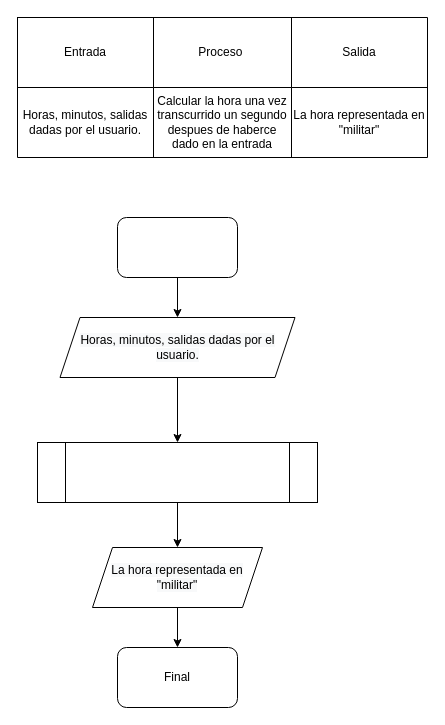
The diagram is 445 pixels wide and 725 high, and some of its shapes have lost their labels. Each missing label, with the centre of its shape:
"Inicio" goes at point (177, 247).
"segundo = segundos + 1" goes at point (177, 472).
